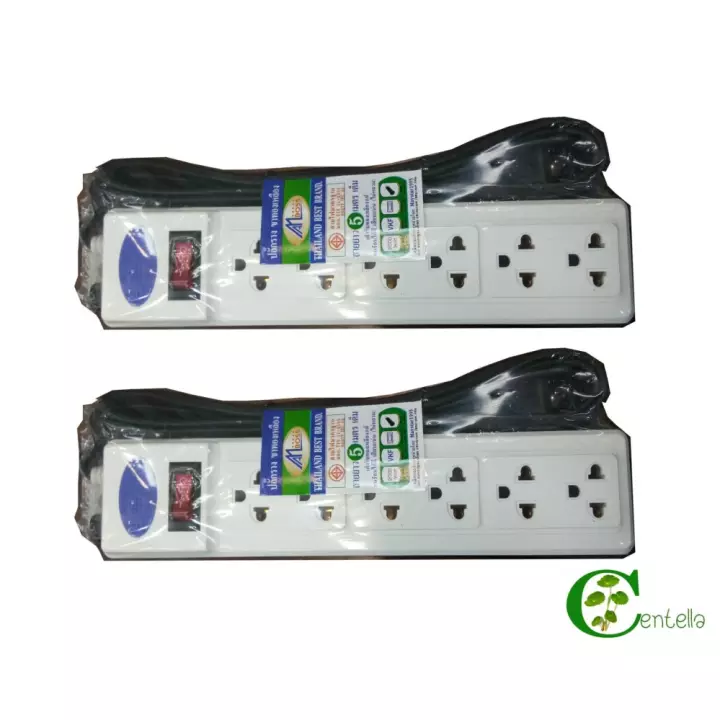Three_eye_plug: (69, 112, 645, 336), (67, 341, 642, 564)
